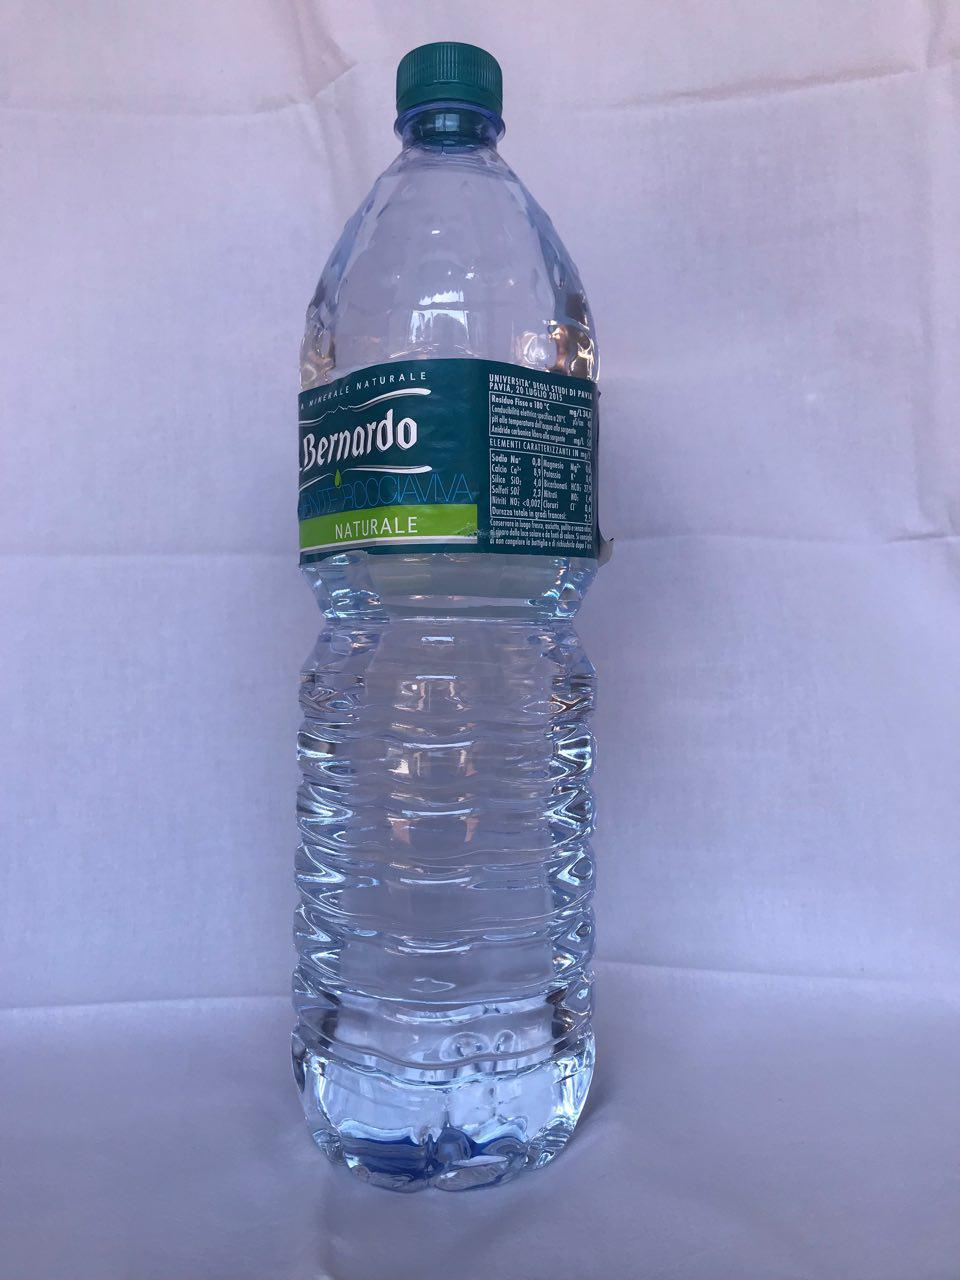san_bernardo: (287, 40, 602, 1195)
